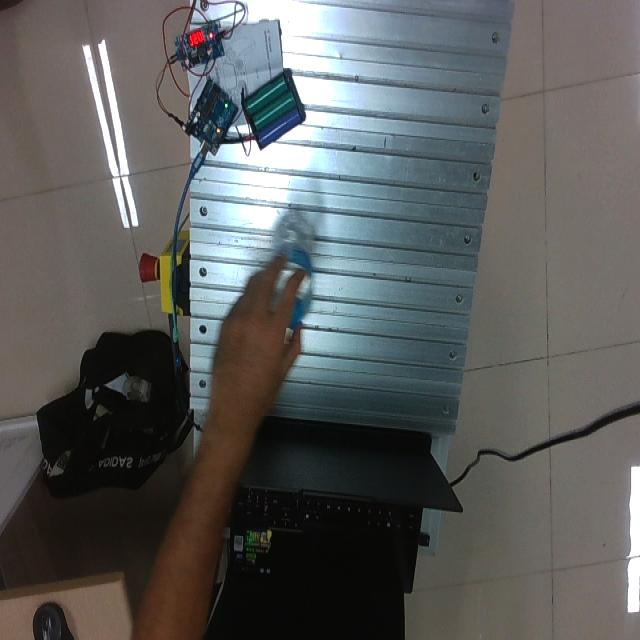lavie: (267, 213, 314, 329)
